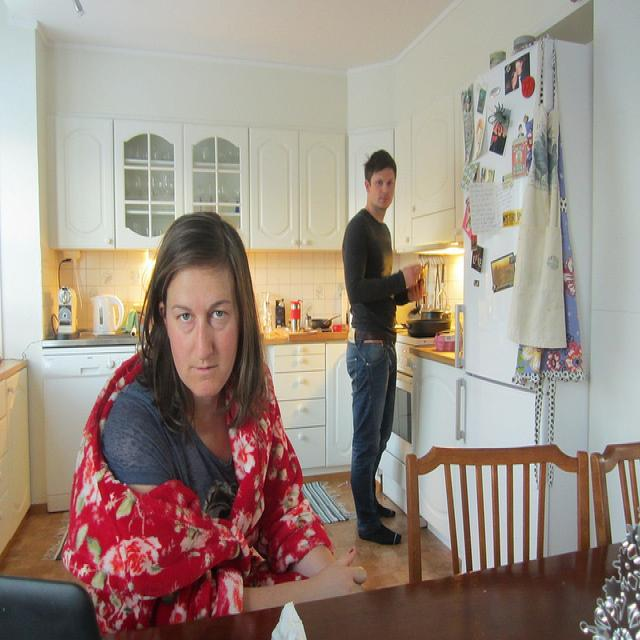chair: (405, 443, 590, 584), (590, 441, 640, 550), (2, 577, 98, 632)
dining table: (143, 537, 638, 637)
